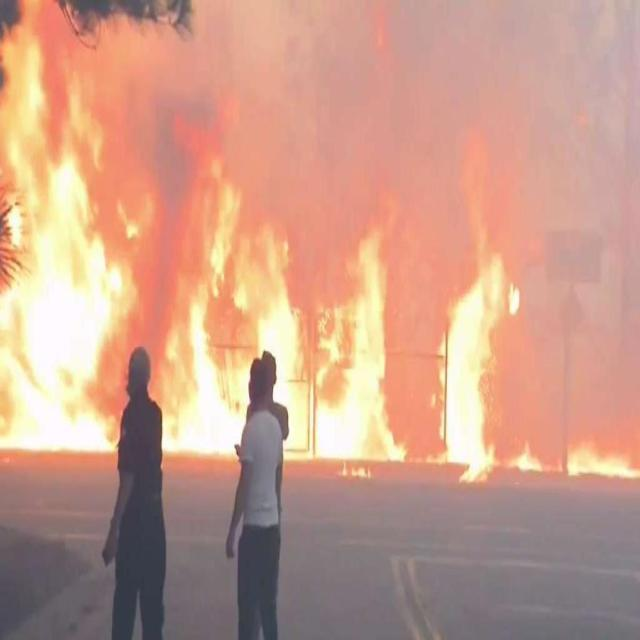Fire: (0, 1, 137, 452), (427, 127, 519, 488), (158, 98, 244, 456), (315, 192, 405, 464), (236, 227, 315, 457), (566, 424, 640, 480), (506, 440, 542, 470), (336, 462, 374, 480)
Smoke: (521, 0, 640, 432), (245, 0, 428, 225), (426, 0, 520, 129), (137, 0, 244, 99)
